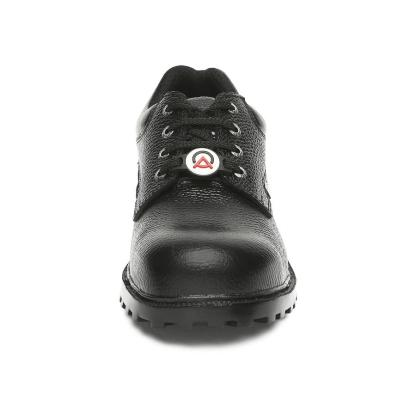bota: (116, 60, 302, 336)
